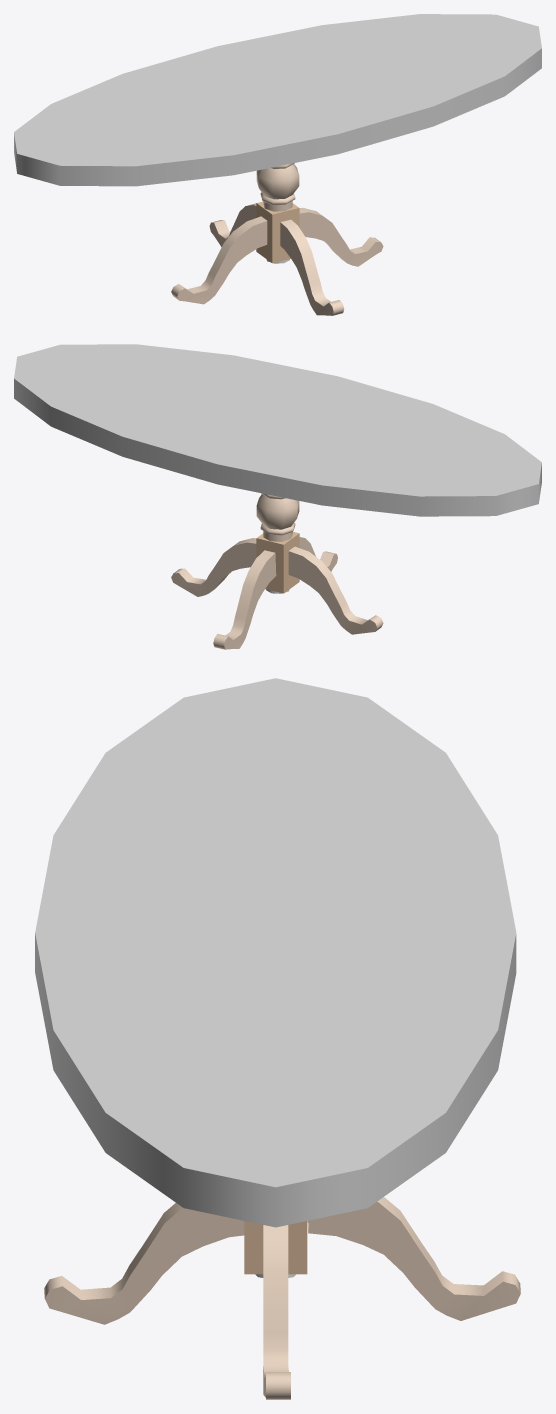
The model's file is Dining table_A.fbx.
3 views of the same model, one above another, from view 1: azimuth 30°, elevation 25°; view 2: azimuth 150°, elevation 25°; view 3: azimuth 270°, elevation 25° (orthographic). The views are drawn at different scales.
Visible parts, largest first — view 1: polySurface8, polySurface4.001, polySurface4.002, polySurface4, polySurface2, polySurface1, polySurface4.003; view 2: polySurface8, polySurface4.001, polySurface4.003, polySurface4, polySurface2, polySurface1, polySurface4.002; view 3: polySurface8, polySurface4.003, polySurface4.002, polySurface4, polySurface1.
Boxes of the visible parts, <box> form: polySurface8: <box>14,14,541,186</box>; polySurface4.001: <box>171,216,267,304</box>; polySurface4.002: <box>280,219,344,315</box>; polySurface4: <box>299,207,383,266</box>; polySurface2: <box>256,163,299,211</box>; polySurface1: <box>256,201,299,263</box>; polySurface4.003: <box>209,203,256,246</box>; polySurface8: <box>14,344,541,516</box>; polySurface4.001: <box>288,546,383,634</box>; polySurface4.003: <box>213,550,276,649</box>; polySurface4: <box>171,538,256,596</box>; polySurface2: <box>256,493,299,541</box>; polySurface1: <box>256,532,299,593</box>; polySurface4.002: <box>299,537,337,571</box>; polySurface8: <box>35,678,516,1227</box>; polySurface4.003: <box>307,1197,520,1320</box>; polySurface4.002: <box>44,1203,244,1324</box>; polySurface4: <box>263,1225,290,1399</box>; polySurface1: <box>244,1221,307,1274</box>.
Bounding box in the file's own units: 186 × 65.83 × 74.99.
